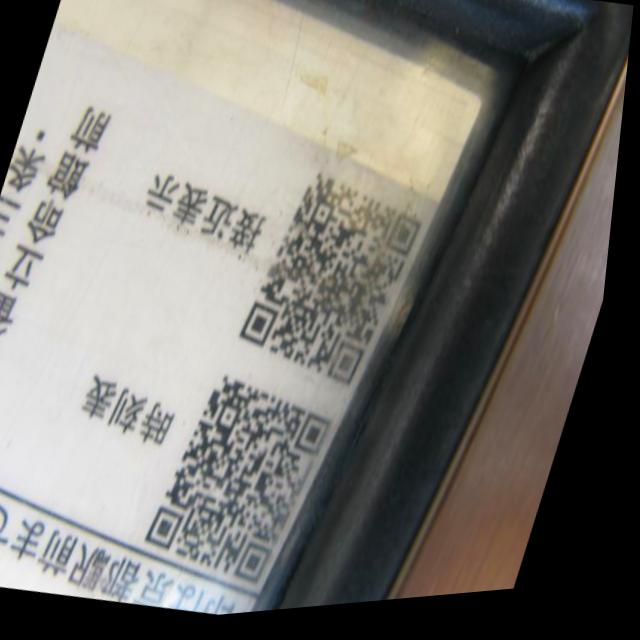qrcode: (234, 163, 441, 406), (146, 365, 355, 604)
